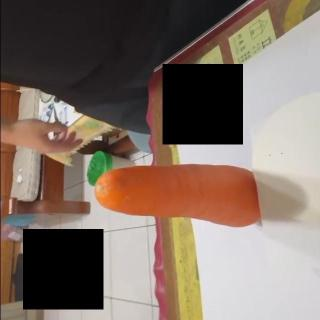carrot: (94, 164, 260, 228)
